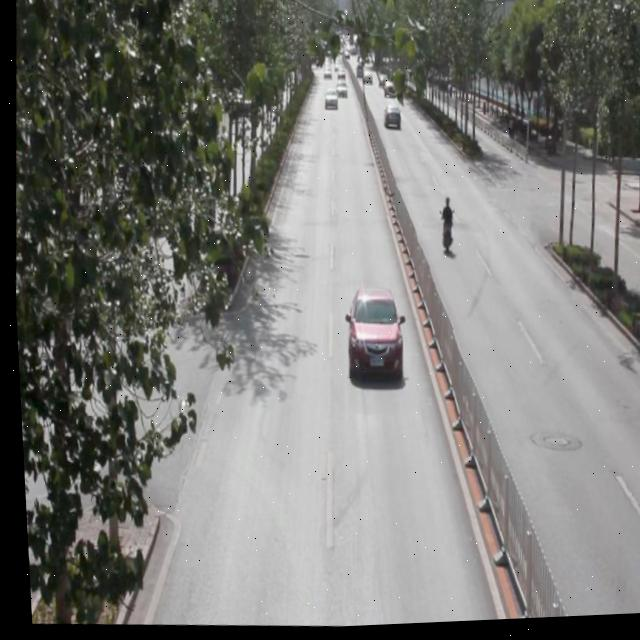car: (338, 286, 403, 387), (380, 103, 400, 130), (321, 88, 337, 112), (334, 81, 348, 99)
